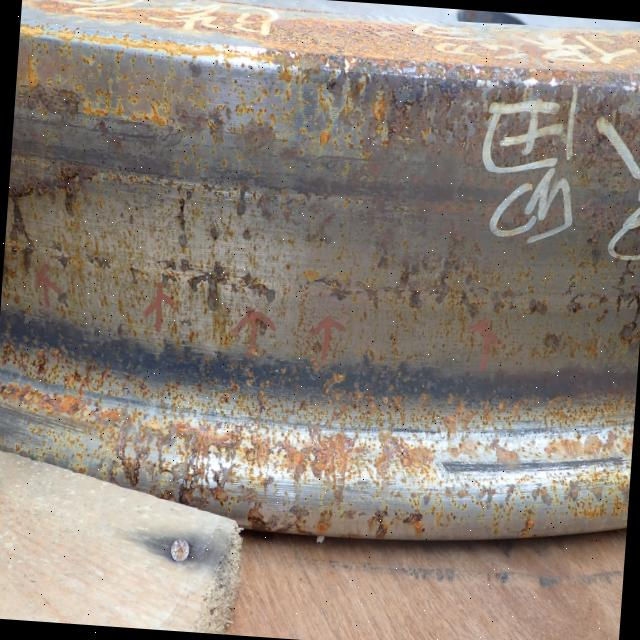Peeling: (310, 271, 499, 321), (149, 256, 283, 317), (46, 238, 118, 277), (566, 289, 640, 326), (6, 193, 35, 252), (173, 188, 201, 248), (54, 172, 82, 218)
